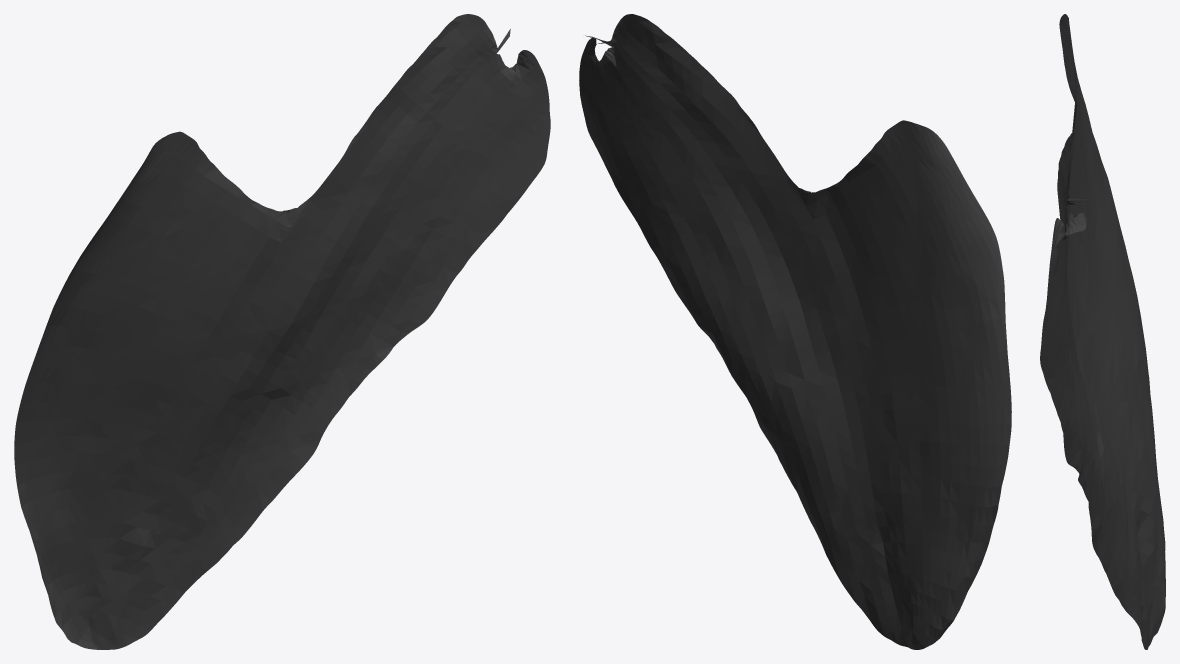
The model's file is Subscapularis.glb.
3 renders of one model, left to right at view 1: azimuth 30°, elevation 25°; view 2: azimuth 150°, elevation 25°; view 3: azimuth 270°, elevation 25°, orthographic. The views are drawn at different scales.
Parts seen in each view (by area): view 1: Subscapularis; view 2: Subscapularis; view 3: Subscapularis.
Part boxes in pixels (<box>): Subscapularis: <box>14,14,550,649</box>; Subscapularis: <box>579,14,1011,649</box>; Subscapularis: <box>1040,14,1165,649</box>.
Bounding box in the file's own units: 0.1732 × 0.1919 × 0.0317.
1 material, 1 textured.
